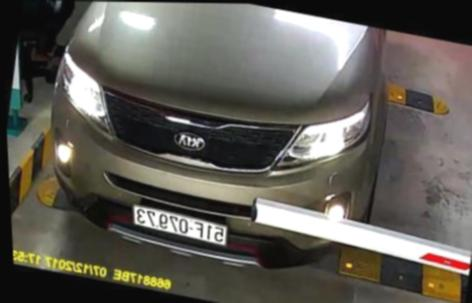License_Plate: (125, 196, 233, 251)
